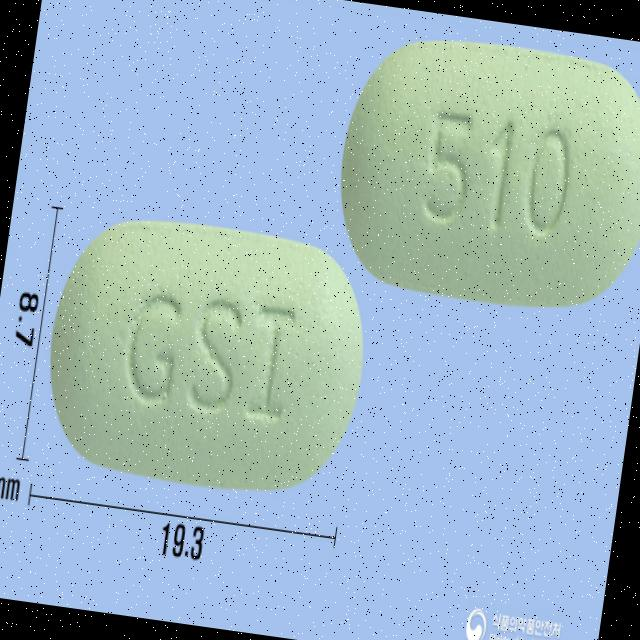Genvoya: (32, 205, 380, 510), (324, 25, 640, 323)
